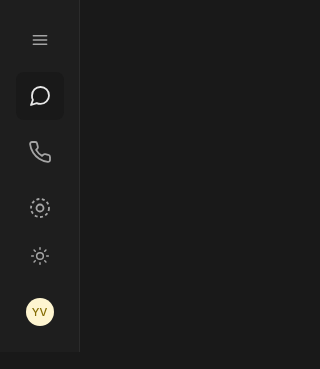
Scenario: NavRail › collapses again on a second press
Click the button named "menu". click: x=40, y=40
box: [16,16,64,64]
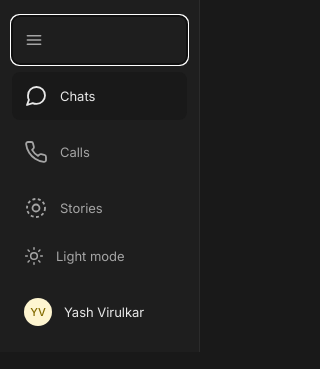
Click the button named "menu". click: x=100, y=40
box: [12,16,187,64]
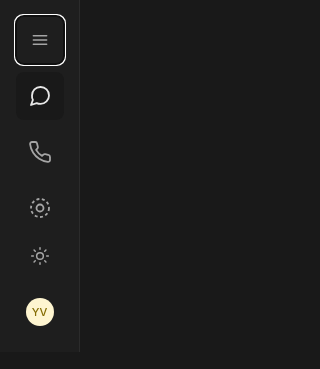
Check: the text with test id "rail-label" is gone
